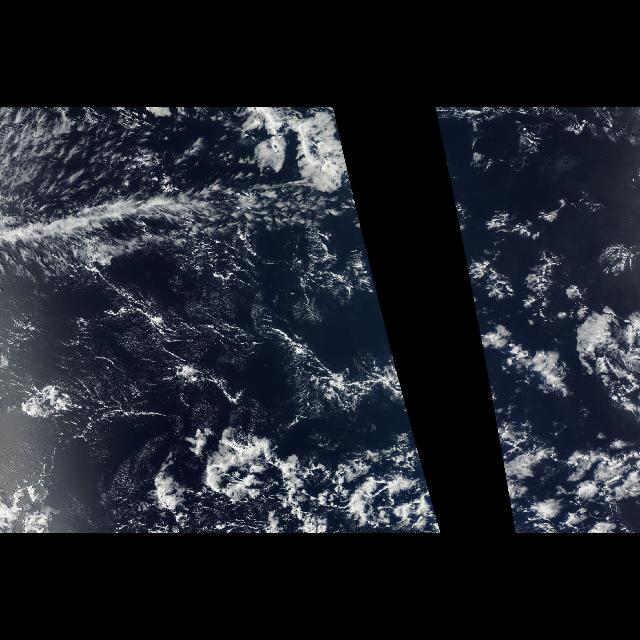Flower: (455, 166, 639, 526), (136, 210, 417, 442)
Sugar: (0, 164, 294, 278), (0, 292, 236, 388)
